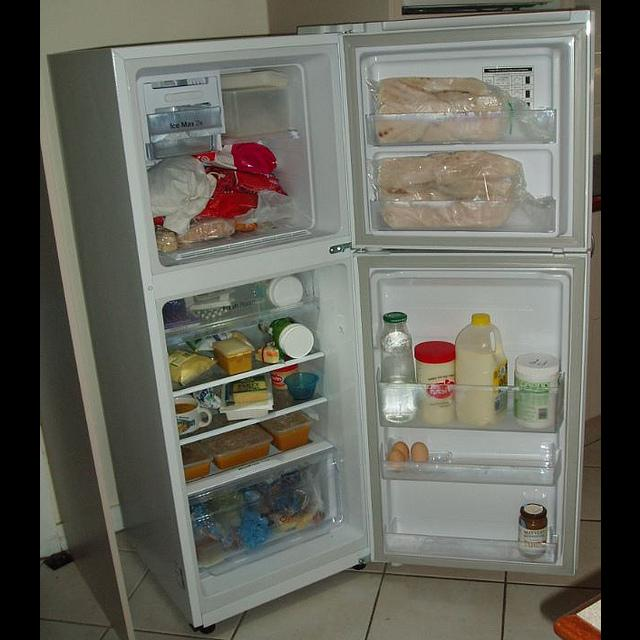Refrigerator: (47, 12, 591, 628)
